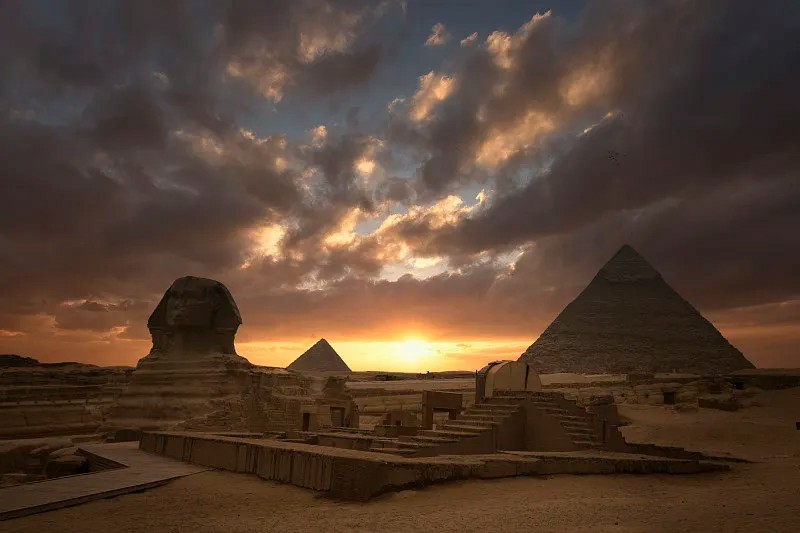Pyramid: (522, 245, 755, 378), (286, 340, 353, 374)
